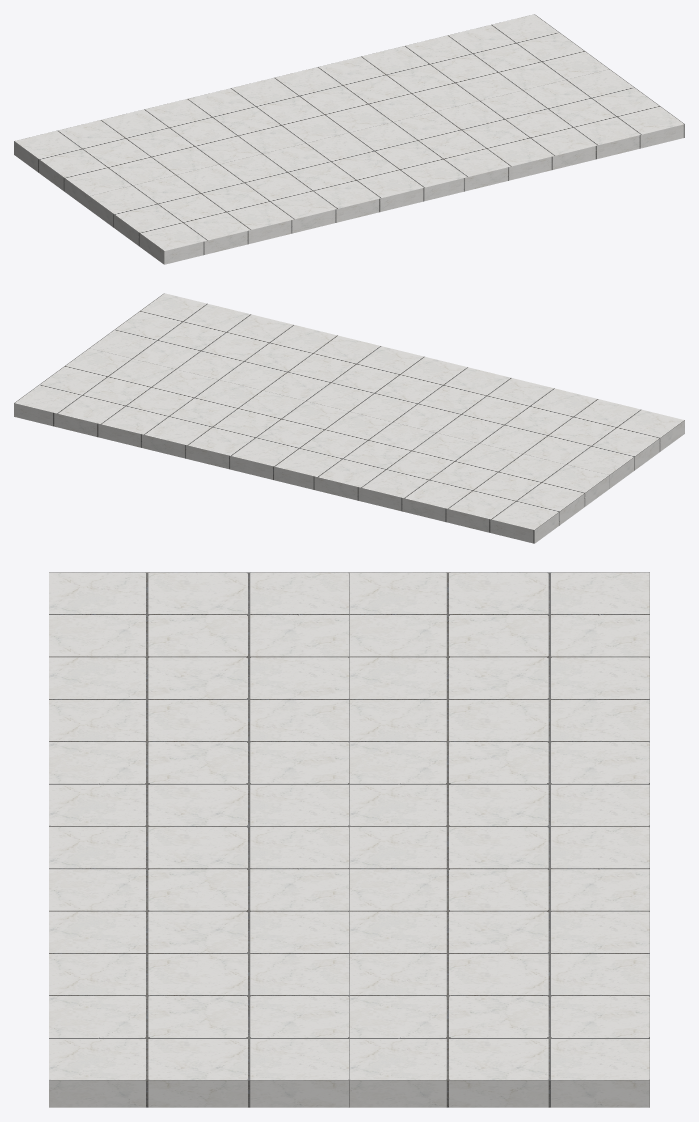
Rendered from FloorTiled_3.fbx.
The picture shows the model from 3 angles, top to bottom: view 1: azimuth 30°, elevation 25°; view 2: azimuth 150°, elevation 25°; view 3: azimuth 270°, elevation 25°; orthographic projection. The views are drawn at different scales.
Parts seen in each view (by area): view 1: FloorTiled_3; view 2: FloorTiled_3; view 3: FloorTiled_3.
Boxes of the visible parts, box(x1,y1,x2,y2) form: FloorTiled_3: box(14, 14, 684, 264); FloorTiled_3: box(14, 293, 684, 543); FloorTiled_3: box(49, 572, 649, 1107).
Size of the model in its own units: 8 by 0.2 by 4.
